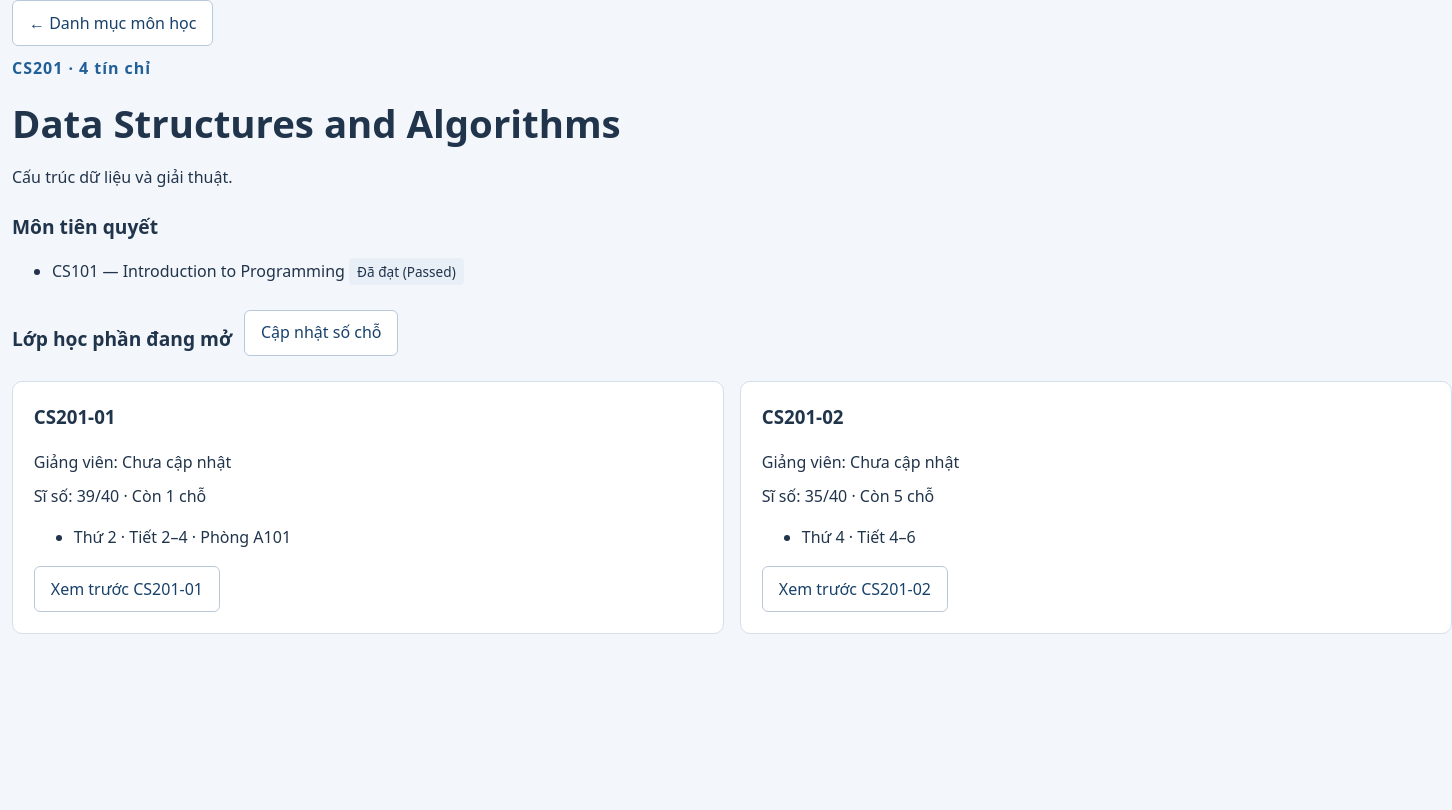
Test case: US-03 và xem trước đăng ký › không cho đăng ký khi kiểm tra thất bại hoặc còn đang chờ
This screenshot has width=1452, height=810.
Click the button "Xem trước CS201-02": (855,589) 762,566 -> 948,612
(page scrolled)
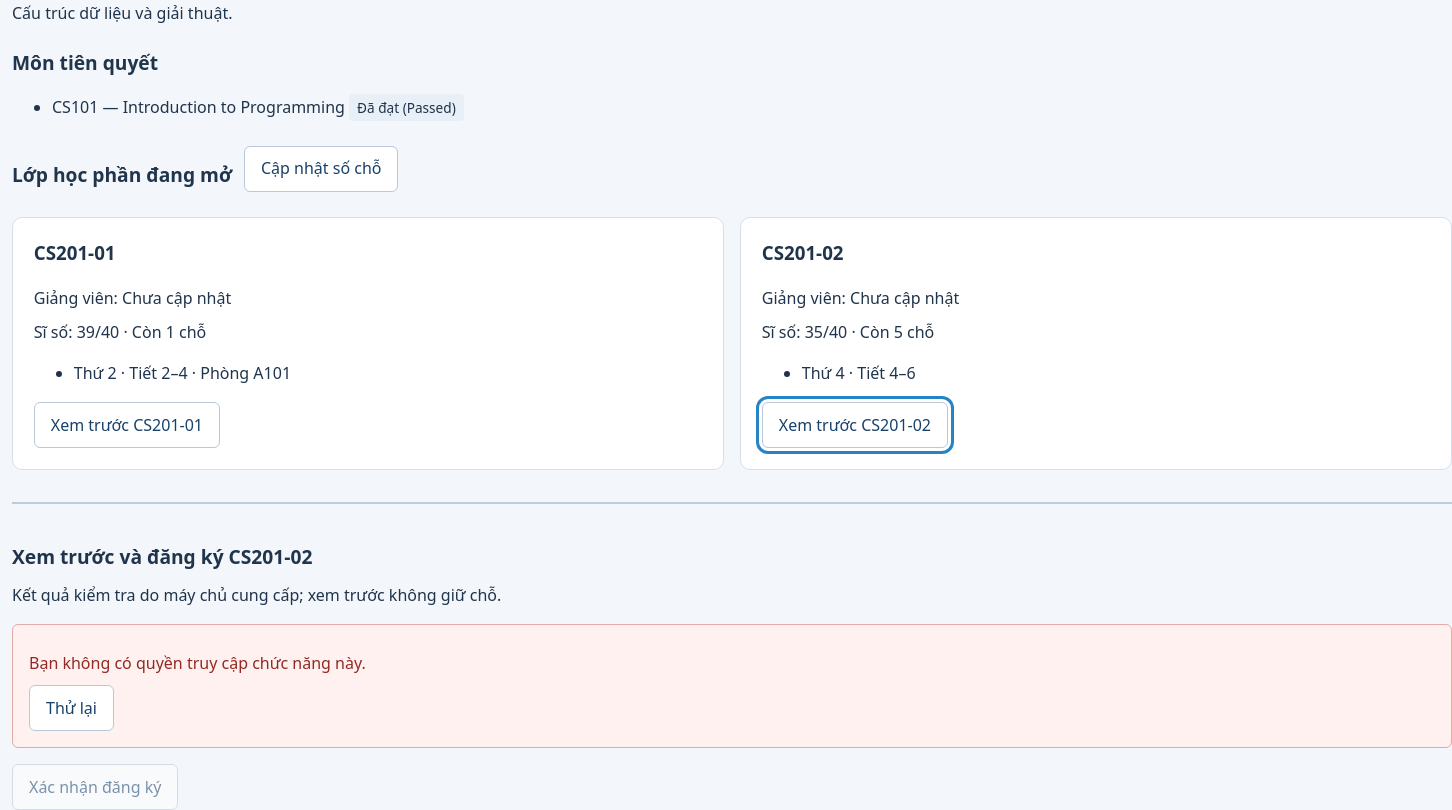
Expected: the message shows "Bạn không có quyền", 29,652 -> 366,674
Expected: the button "Xác nhận đăng ký" is disabled, 12,764 -> 178,809
